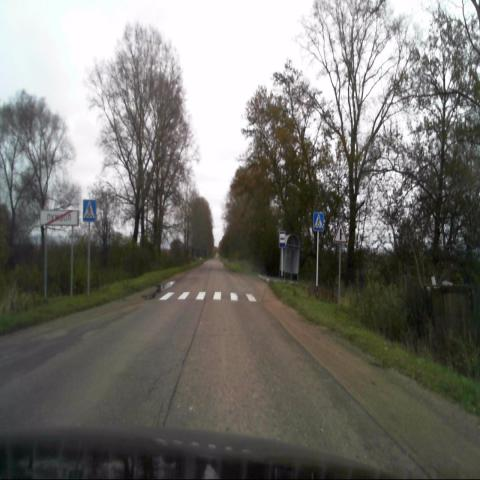2_3_2: (334, 221, 348, 243)
